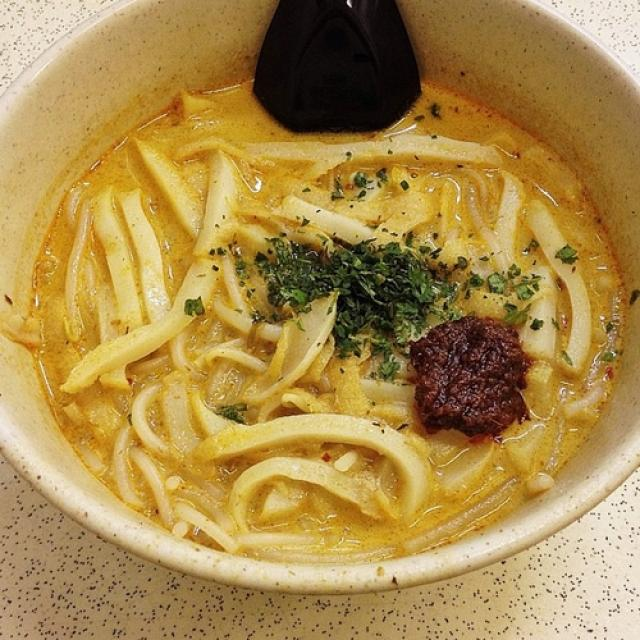面条主食: (26, 16, 613, 578)
